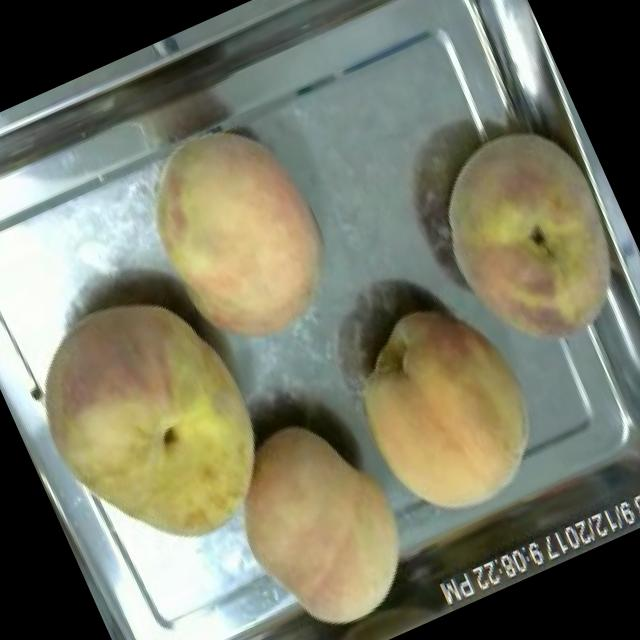Fruit: (0, 255, 306, 593), (111, 94, 367, 378), (314, 272, 572, 548), (401, 97, 640, 380), (198, 389, 441, 640)
